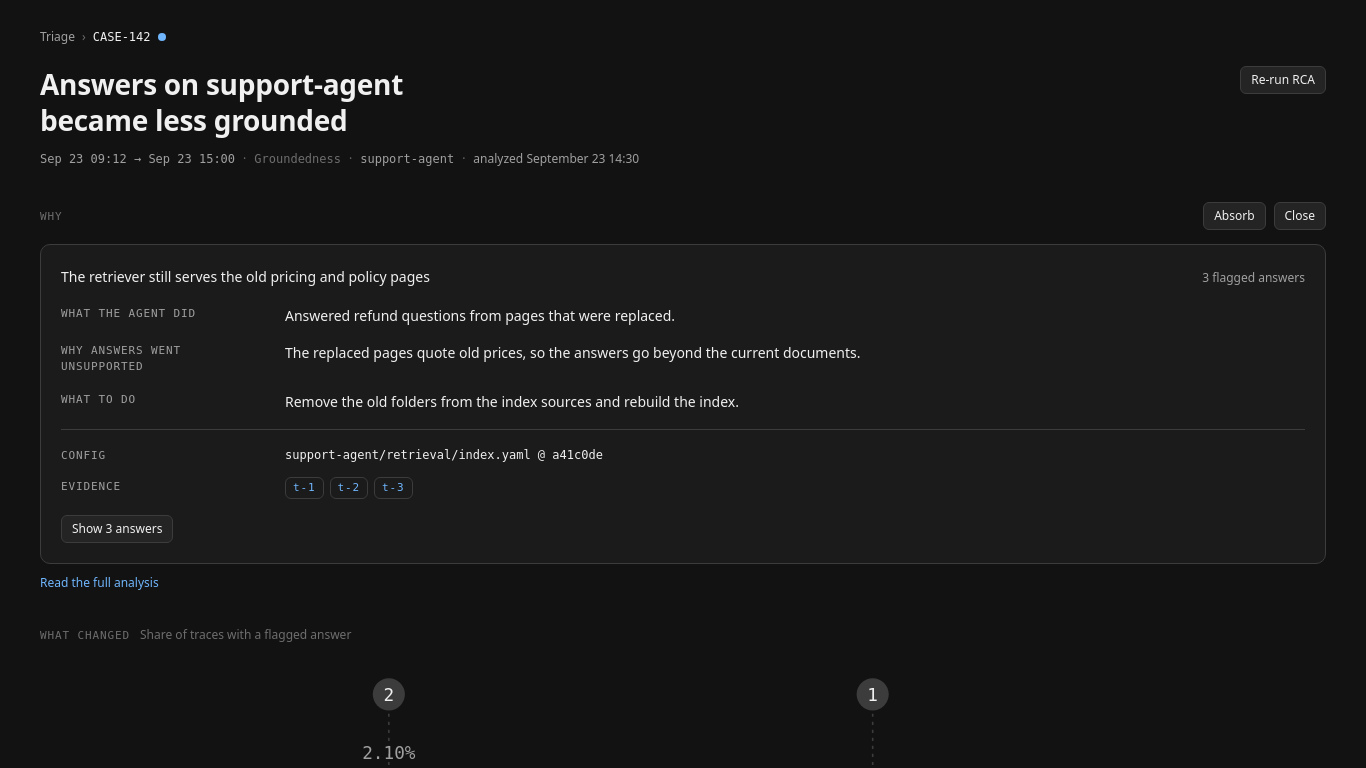
it: closing a case › closes the case after the confirmation, then dismisses the dialog
The image size is (1366, 768).
Click the button "Close": (1300, 216) [1274,202,1326,230]
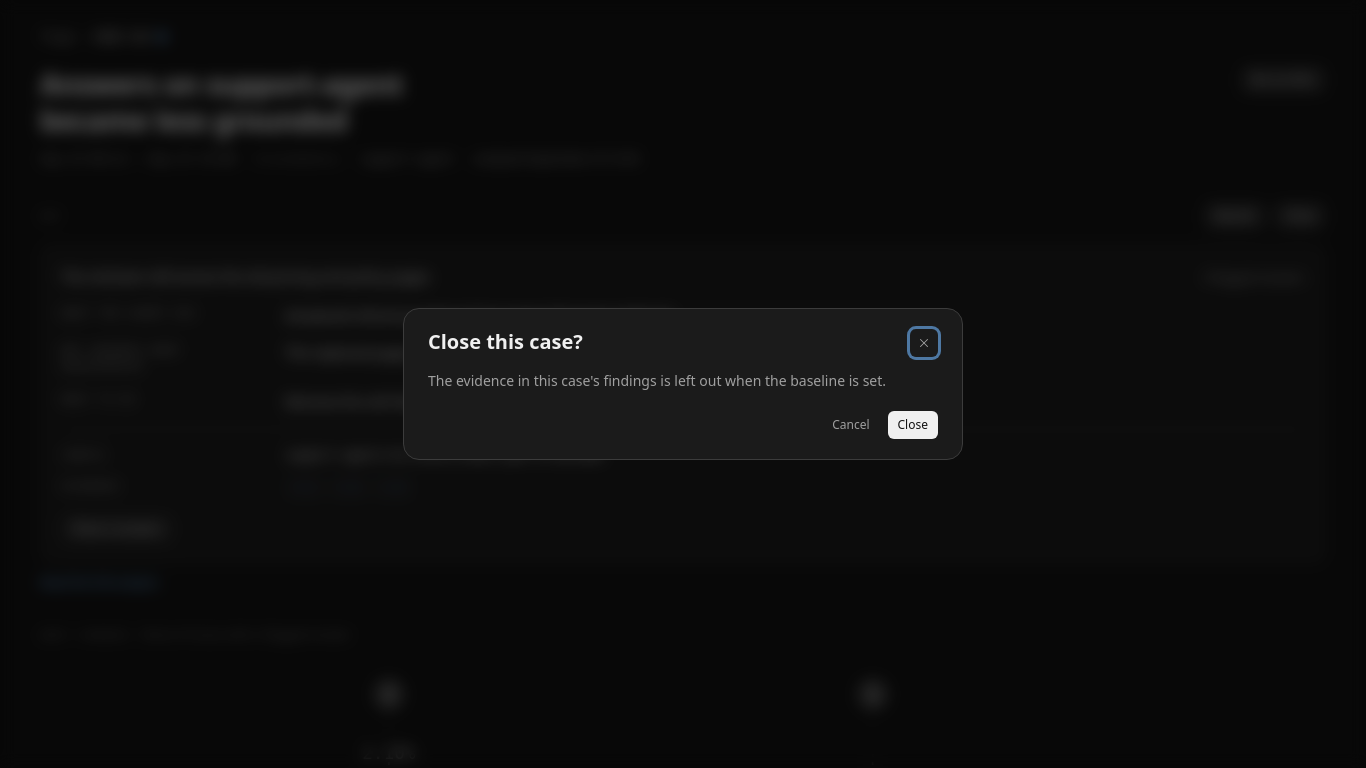
Expected: the text "The evidence in this case's findings is left out when the baseline is set." is shown, [428,370,938,393]
Click the button with aria-label "Close case": (913, 424) [888,410,938,438]
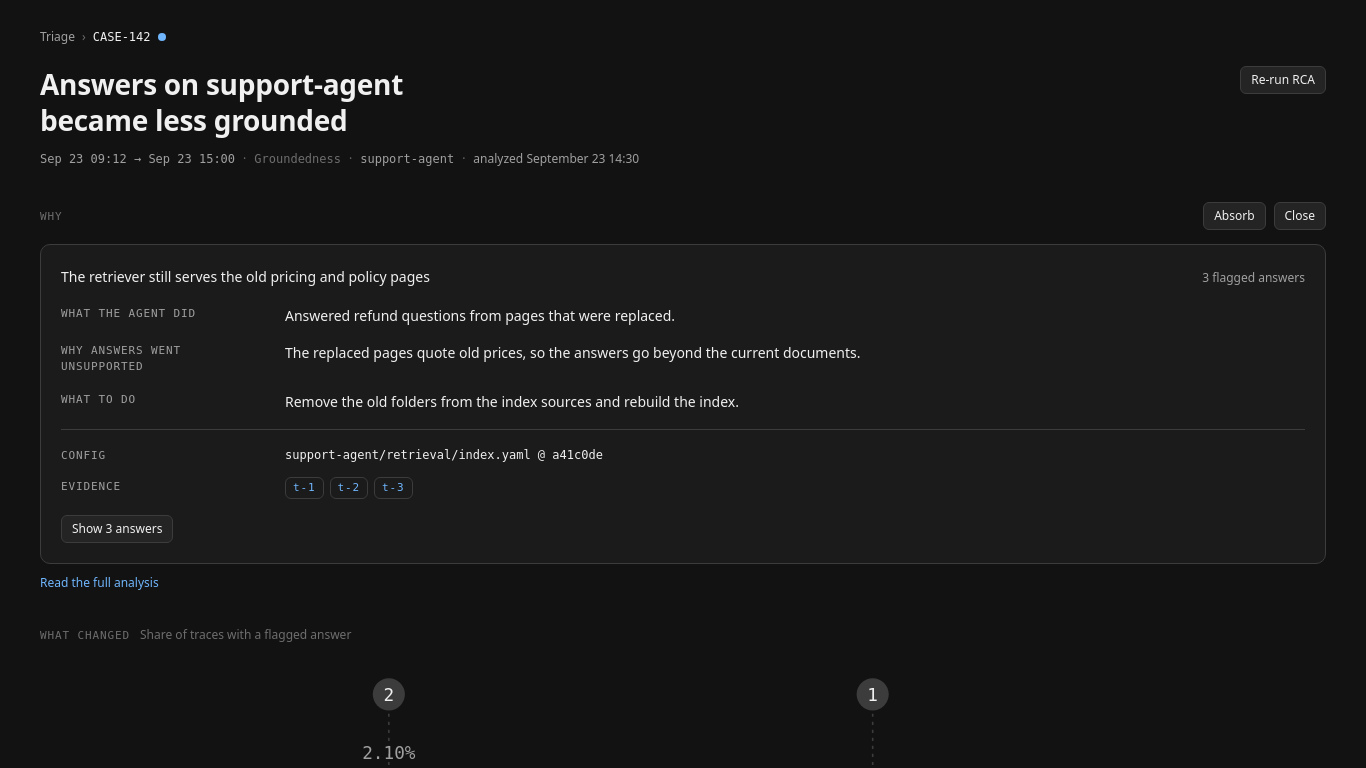
Expected: the dialog is gone
